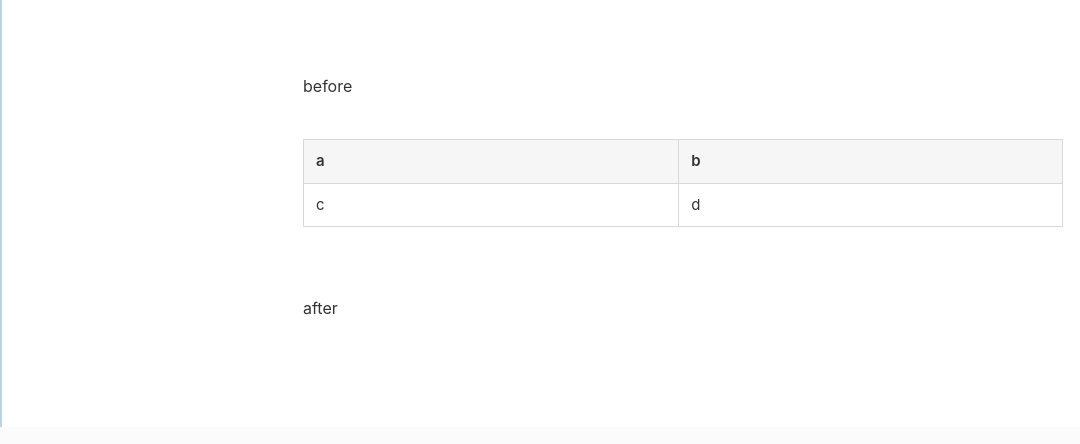
Test: single EditorView lifecycle › lets a table cell start CM's continuous mouse gesture (shift=false)
Press the mouse on the cell "c" at (491, 205), box [304, 183, 679, 227]
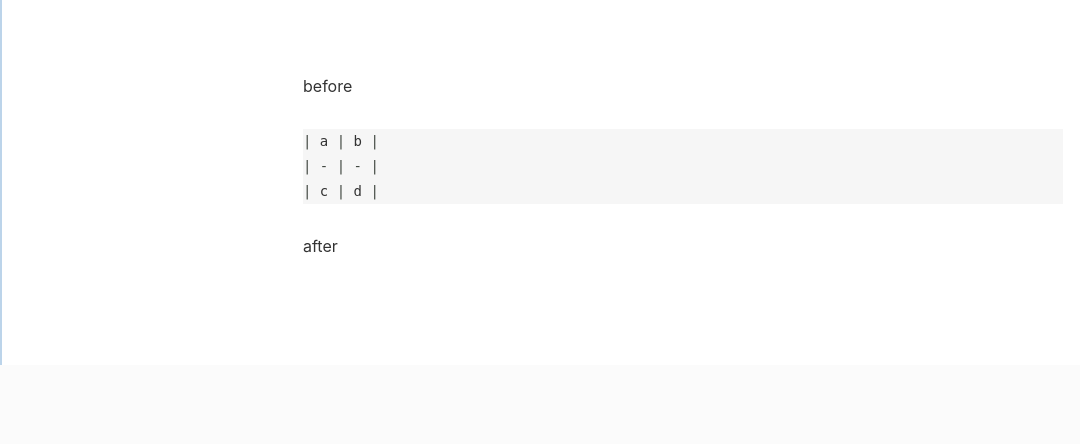
Expected: the element with class "cm-preview-table" is gone
